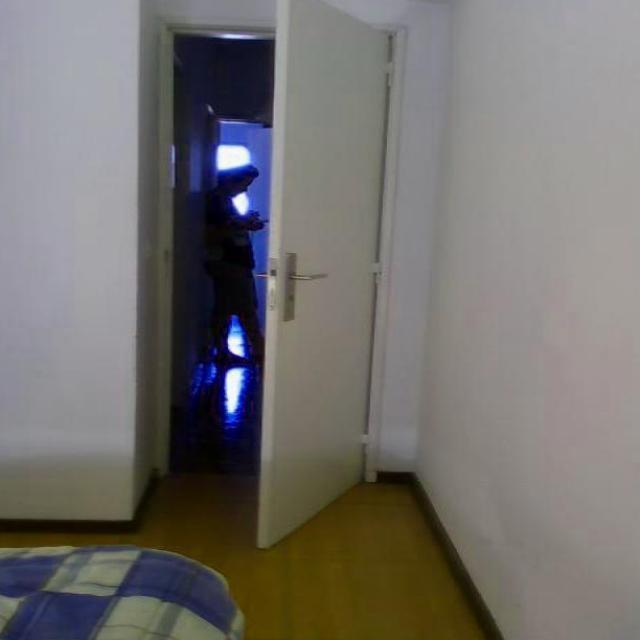door: (254, 0, 391, 549)
